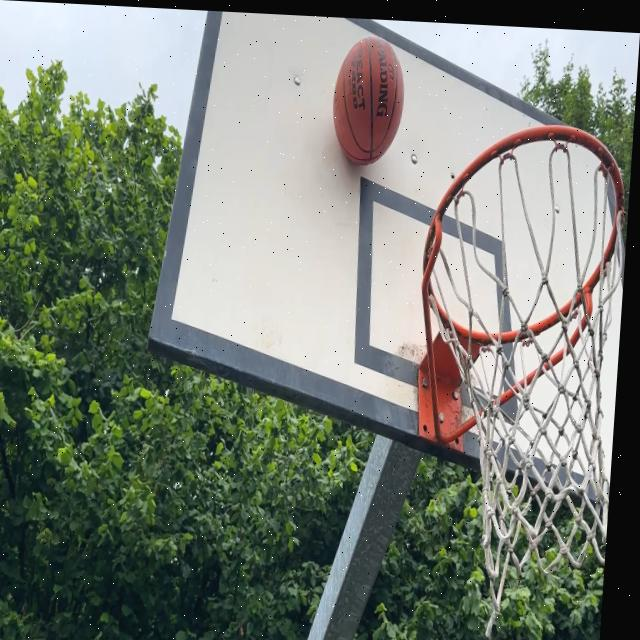rebound_hit: (328, 36, 409, 169)
